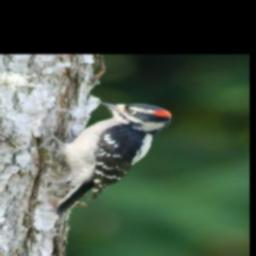Woodpecker: (45, 98, 175, 217)
